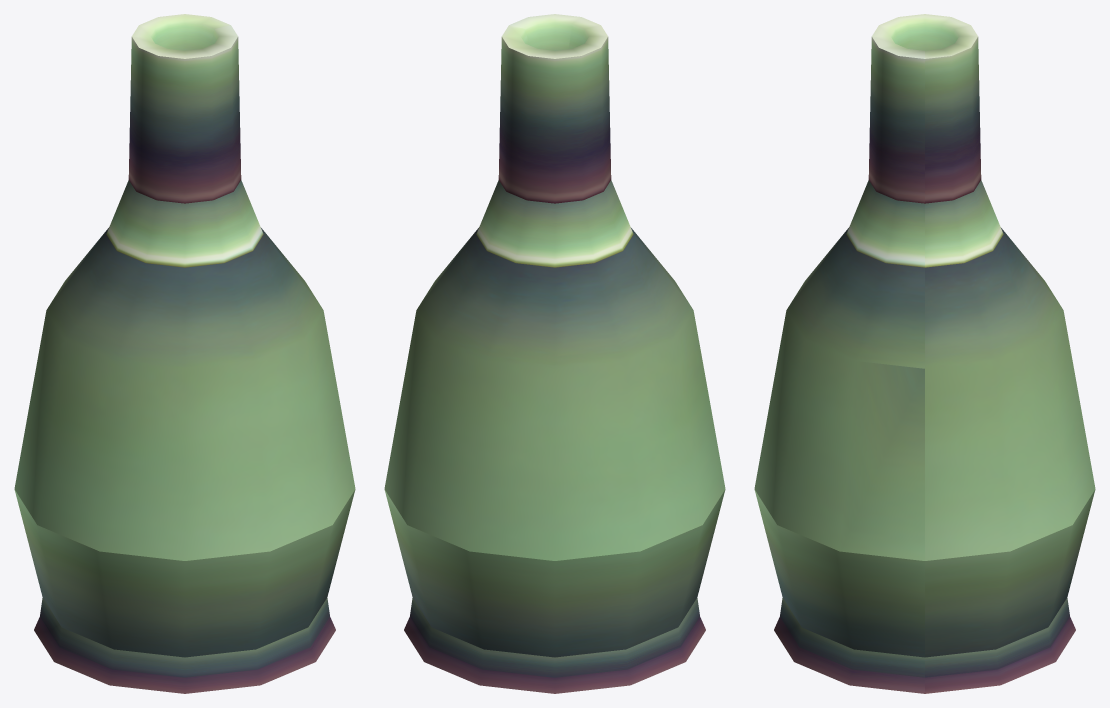
File: bottle_1_green.DAE
3 views of the same model, side by side, from view 1: azimuth 30°, elevation 25°; view 2: azimuth 150°, elevation 25°; view 3: azimuth 270°, elevation 25° (orthographic).
Parts seen in each view (by area): view 1: Cylinder01; view 2: Cylinder01; view 3: Cylinder01.
Part boxes in pixels (x1,y1,x2,y2): Cylinder01: (14,14,355,693); Cylinder01: (384,14,725,693); Cylinder01: (754,14,1095,693).
Size of the model in its own units: 0.2631 by 0.5054 by 0.2631.
